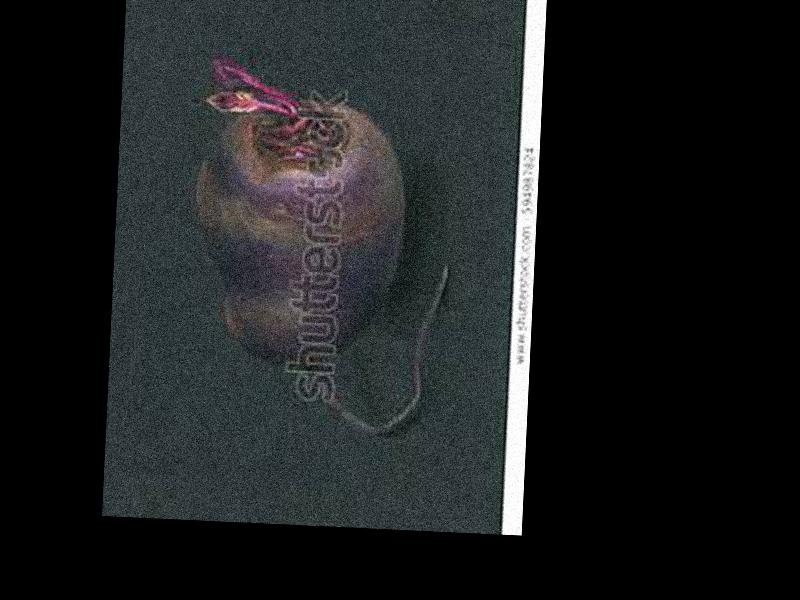Beet: (184, 50, 457, 436)
